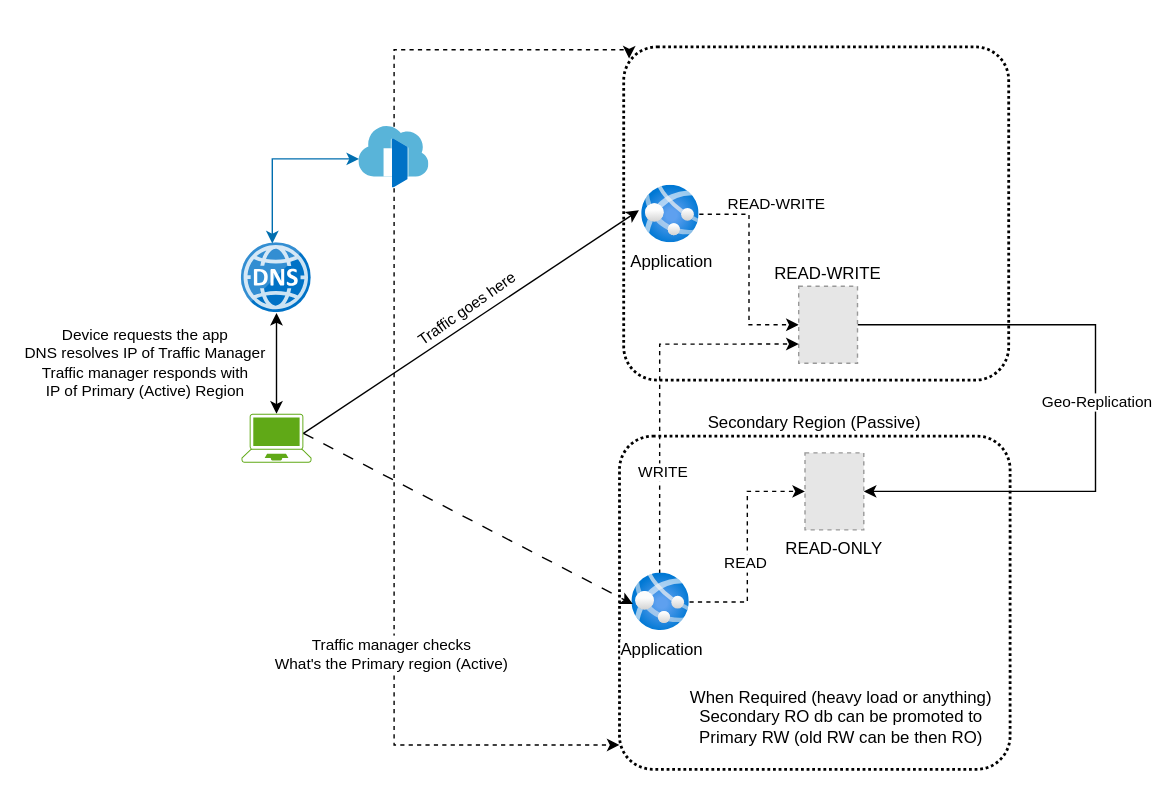
Some shapes in this 1176 by 795 pixel diagram are drawn without their labels. Grey dashed boxes stand in for pictures. The box of each missing label's shape, as (x1, y1, x2, y2) in pixels:
Front Door Or any Traffic Manager: (358, 126, 428, 188)
Primary Region: (622, 45, 1009, 381)
User device: (240, 412, 312, 463)
